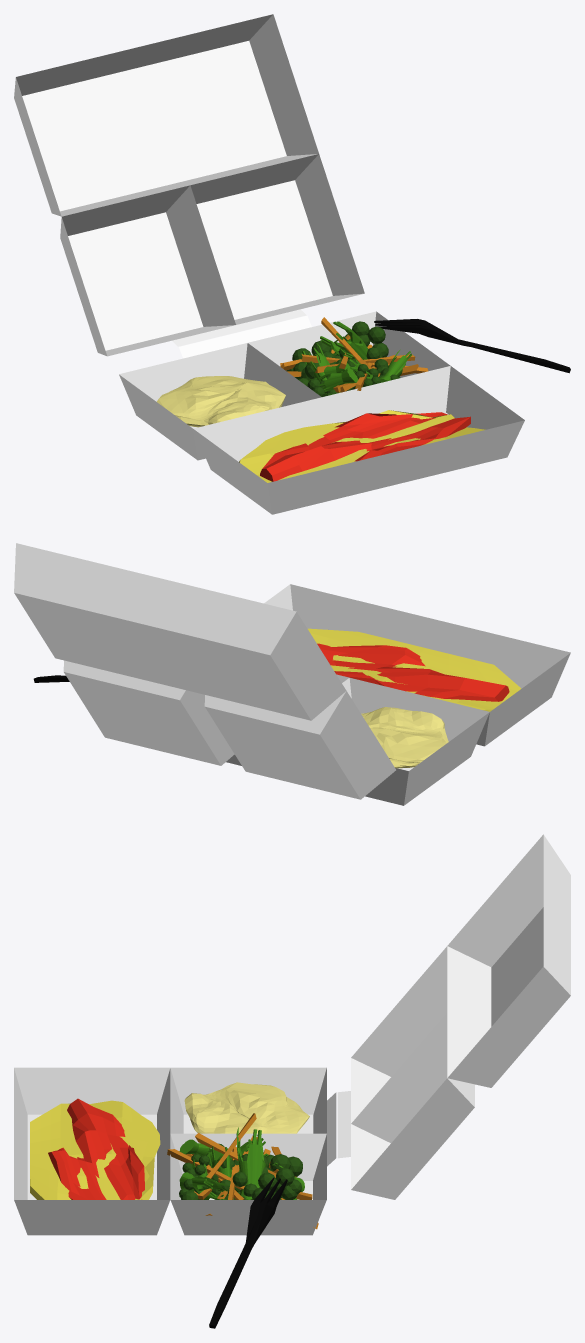
Rendered from comida_charola.glb.
3 renders of one model, top to bottom at view 1: azimuth 30°, elevation 25°; view 2: azimuth 150°, elevation 25°; view 3: azimuth 270°, elevation 25°, orthographic. The views are drawn at different scales.
Visible parts, largest first — view 1: Cube.001, Cube, Cube.020, Icosphere, Cube.018, Cube.019, Cylinder.012; view 2: Cube.001, Cube, Cube.020, Cube.018, Icosphere; view 3: Cube.001, Cube, Cube.018, Cube.020, Icosphere, Cube.019, Cylinder.012, Icosphere.028.
Boxes of the visible parts, x1,y1,x2,y2 form: Cube.001: [14, 14, 364, 356]; Cube: [119, 311, 524, 514]; Cube.020: [260, 412, 470, 481]; Icosphere: [156, 376, 285, 427]; Cube.018: [239, 410, 485, 482]; Cube.019: [374, 319, 570, 373]; Cylinder.012: [320, 321, 368, 359]; Cube.001: [14, 543, 395, 799]; Cube: [226, 584, 570, 805]; Cube.020: [317, 643, 509, 701]; Cube.018: [308, 628, 521, 711]; Icosphere: [361, 707, 448, 768]; Cube.001: [337, 834, 570, 1199]; Cube: [14, 1067, 336, 1235]; Cube.018: [30, 1100, 160, 1199]; Cube.020: [48, 1098, 144, 1199]; Icosphere: [184, 1082, 309, 1133]; Cube.019: [209, 1177, 287, 1328]; Cylinder.012: [236, 1127, 265, 1199]; Icosphere.028: [252, 1168, 297, 1199].
Bounding box in the file's own units: 9 × 5.98 × 10.38.
